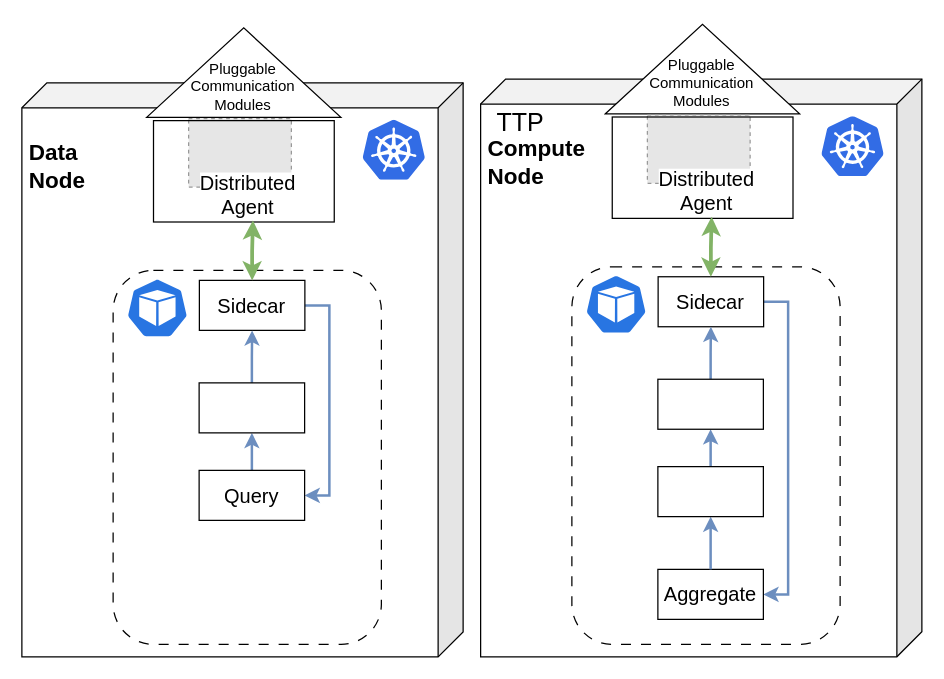
Some shapes in this 944 by 679 pixel diagram are drawn without their labels. Grey dashed boxes stand in for pictures. Each missing label, with the centre of its shape:
Algorithm: the point at 710,491
Anonymize: the point at 251,407
Graph: the point at 710,403
